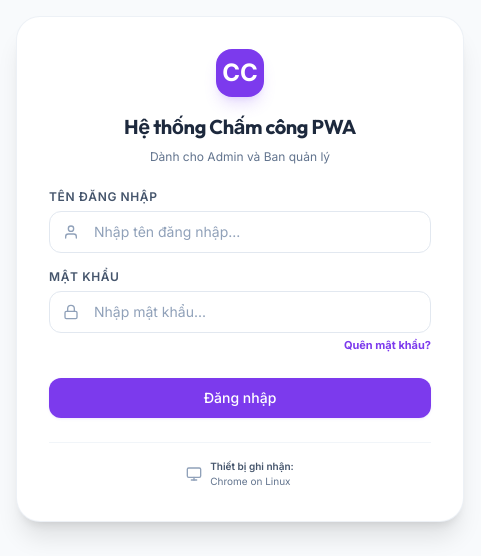
Test: React Admin Login Component Tests › 4. Show loading state during submission
In the field labelled "Tên đăng nhập": (240, 232) [49,211,431,253], type "admin"
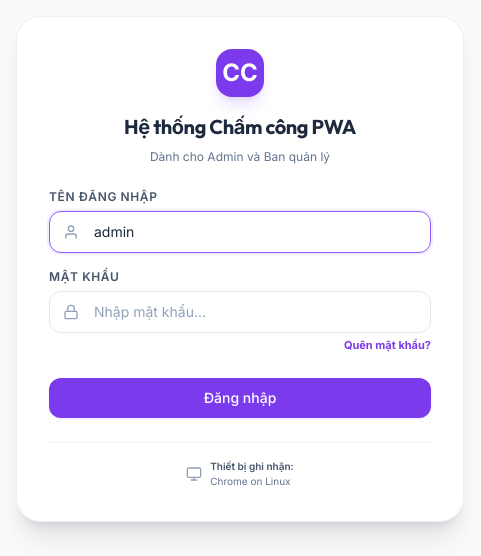
In the password field labelled "Mật khẩu": (240, 312) [49,291,431,333], type "password123"
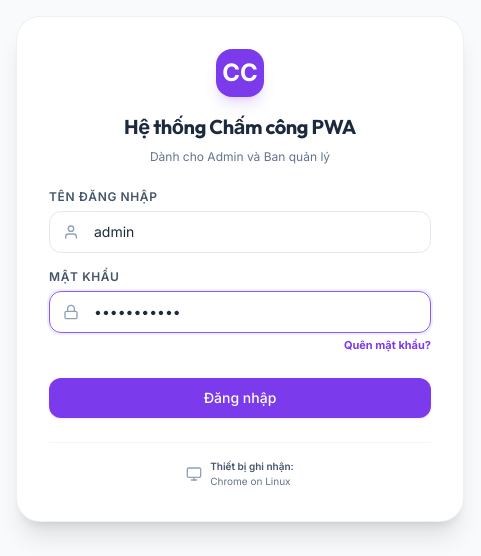
Click the button "Đăng nhập": (240, 398) [49,378,431,418]
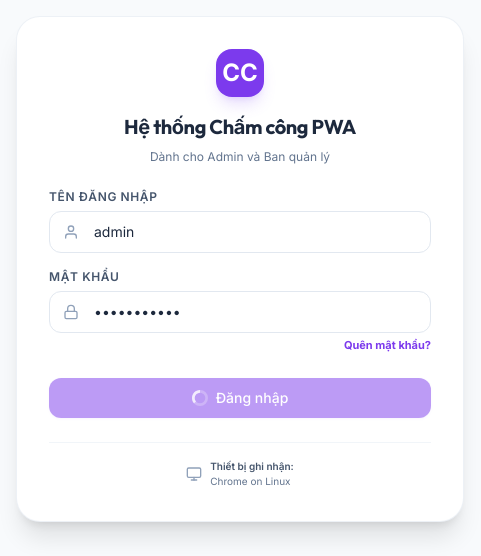
expect the button "Đăng nhập" is disabled: met, box [49,378,431,418]
